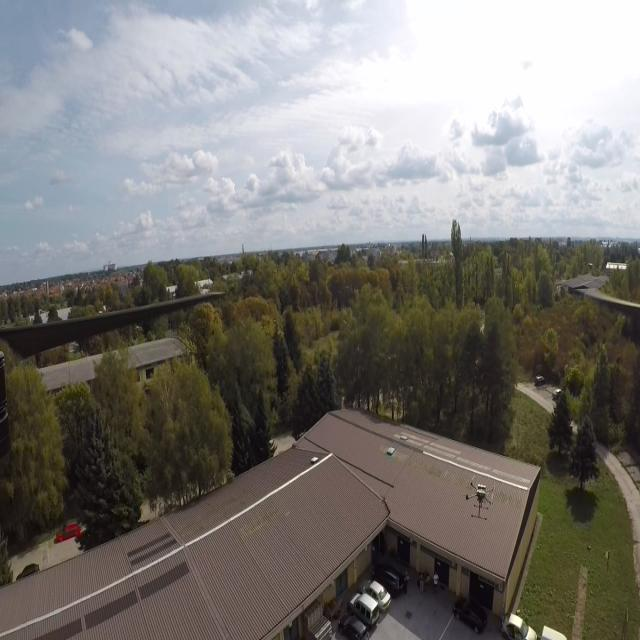UAV: (461, 473, 497, 523)
